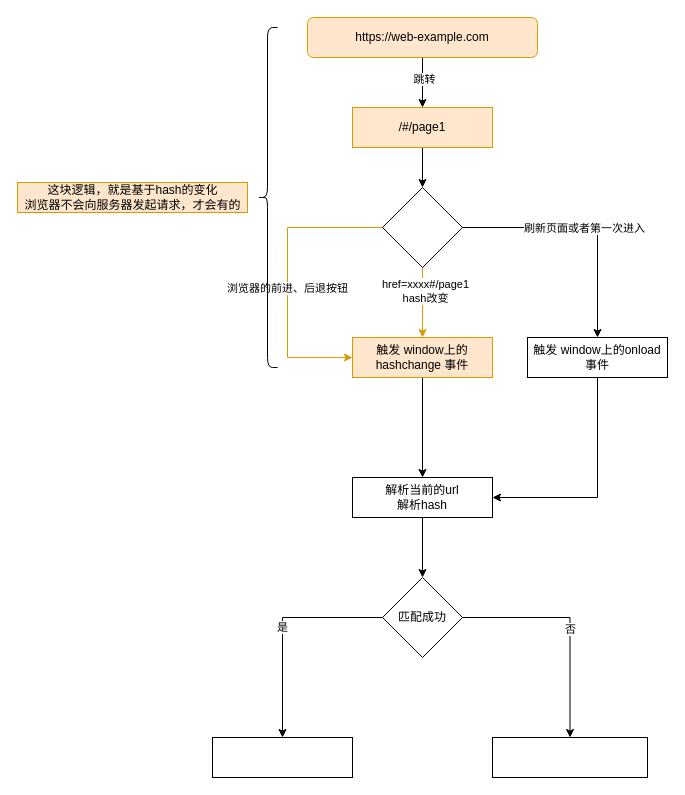
Some shapes in this 685 by 795 pixel diagram are drawn without their labels. Here are the shapes that lost their labels. From the top down, the centre of each, then its label:
At point 422,227: "跳转类型".
At point 282,757: "根据不同规则，展示页面".
At point 570,757: "做错误处理 重定向或者提示路径不存在".
